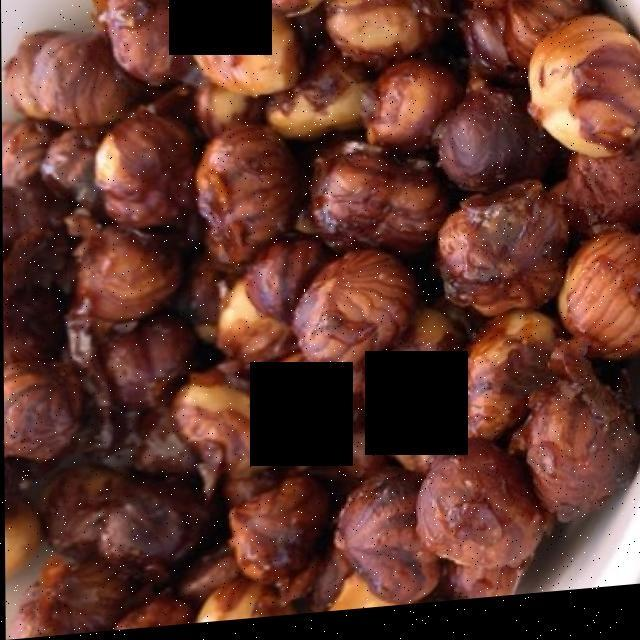hazelnut: (11, 0, 633, 630), (9, 0, 629, 626)
